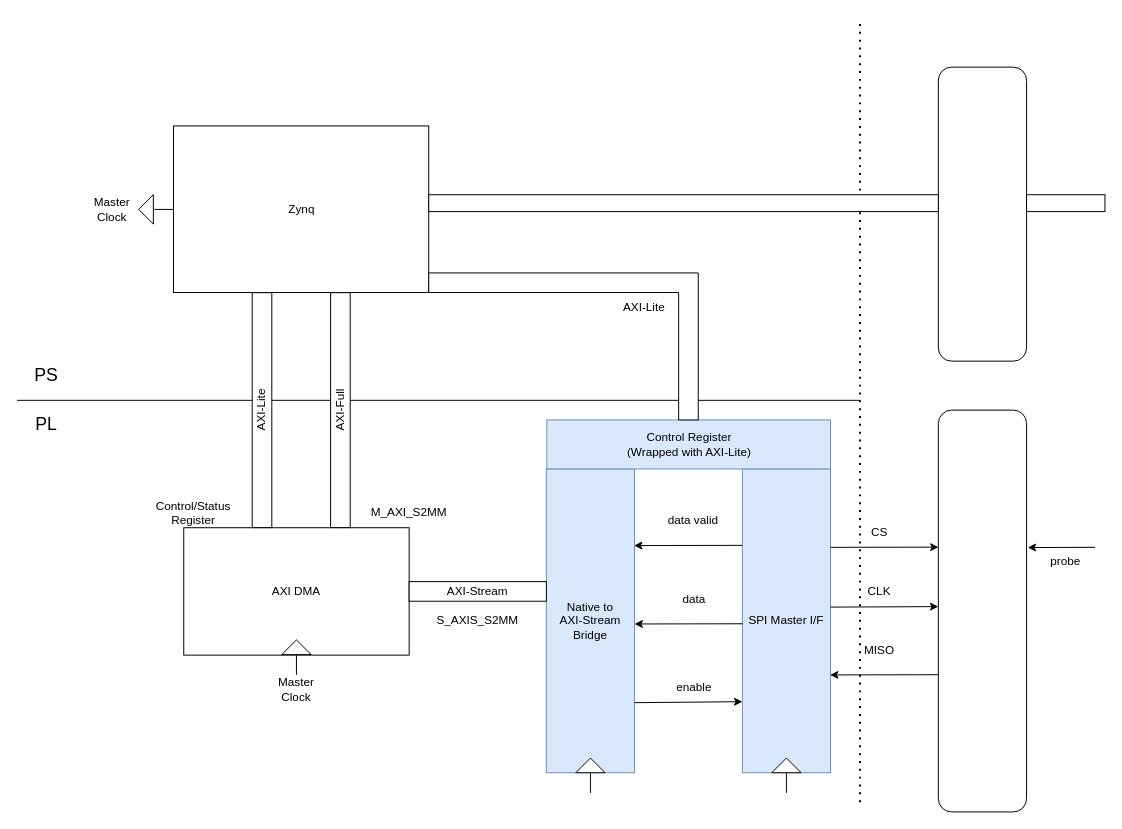
Image size: 1122x829. Some labels were removed from this diagram. The centre of each missing label's shape, as x and y in pixels:
"ADC" belongs at pixel 982 610.
"Ethernet PHY" belongs at pixel 982 213.
"RGMII" belongs at pixel 683 203.
"RJ-45" belongs at pixel 1065 203.
